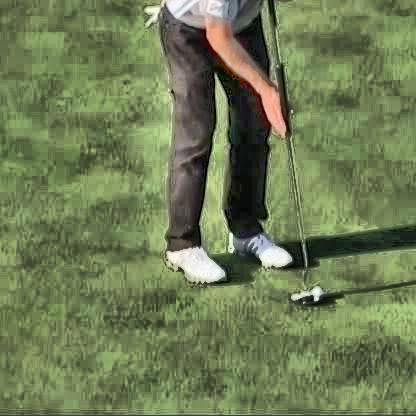golfball: (307, 282, 320, 298)
